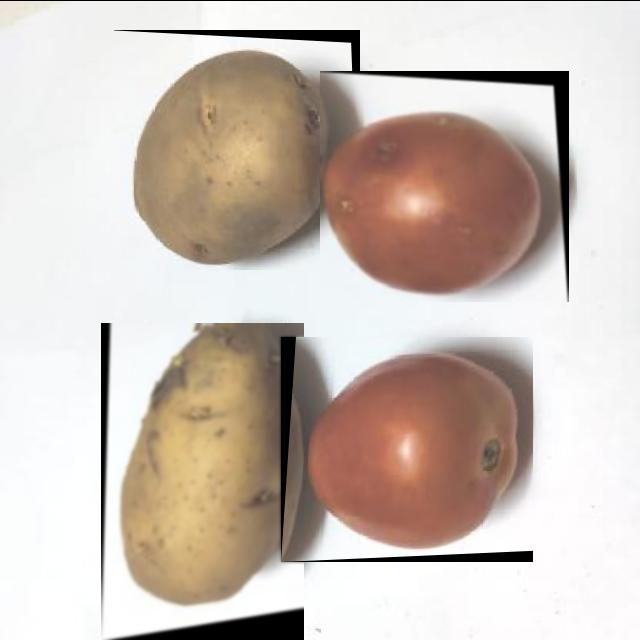5: (320, 70, 569, 301)
potato: (101, 322, 304, 640), (114, 29, 360, 269)
tomato: (281, 336, 533, 561)
